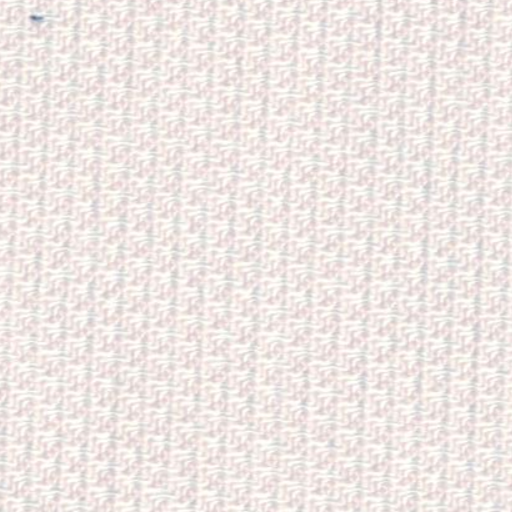WuZi: (18, 4, 53, 31)
